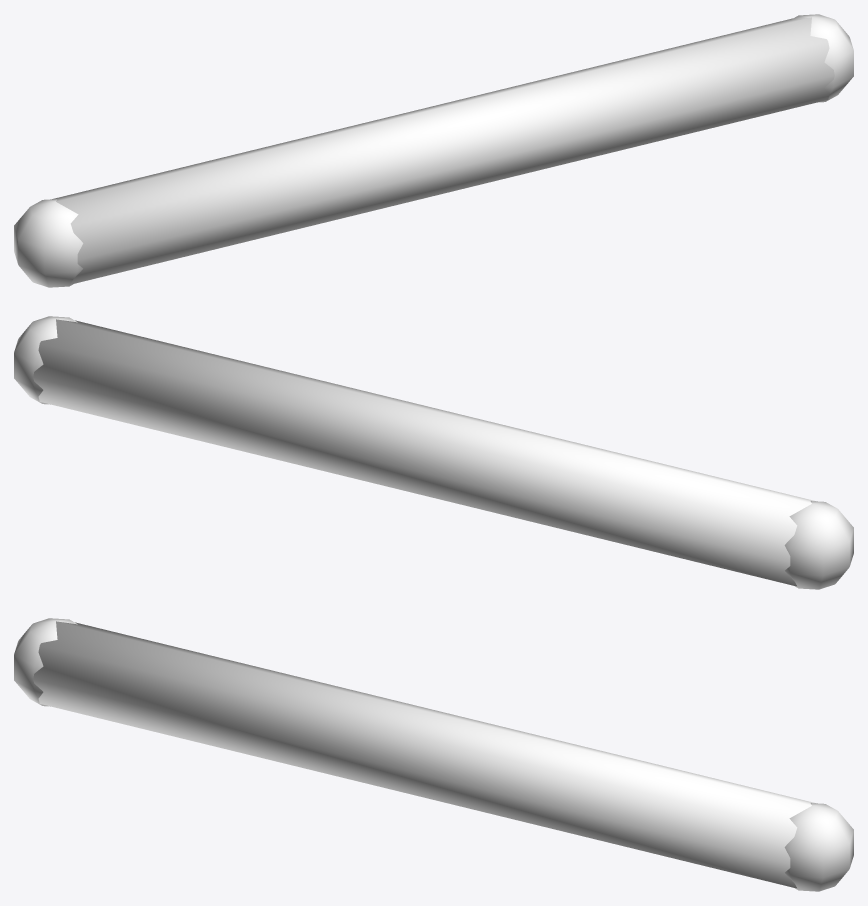
File: music-ledger.glb
The picture shows the model from 3 angles, top to bottom: view 1: azimuth 30°, elevation 25°; view 2: azimuth 150°, elevation 25°; view 3: azimuth 330°, elevation 25°; orthographic projection.
Parts seen in each view (by area): view 1: music-ledger; view 2: music-ledger; view 3: music-ledger.
Boxes of the visible parts, x1,y1,x2,y2 form: music-ledger: [14, 14, 853, 287]; music-ledger: [14, 316, 853, 589]; music-ledger: [14, 618, 853, 891].
Size of the model in its own units: 0.9456 by 0.09 by 0.09.
Materials: 1 (1 with a texture image).
